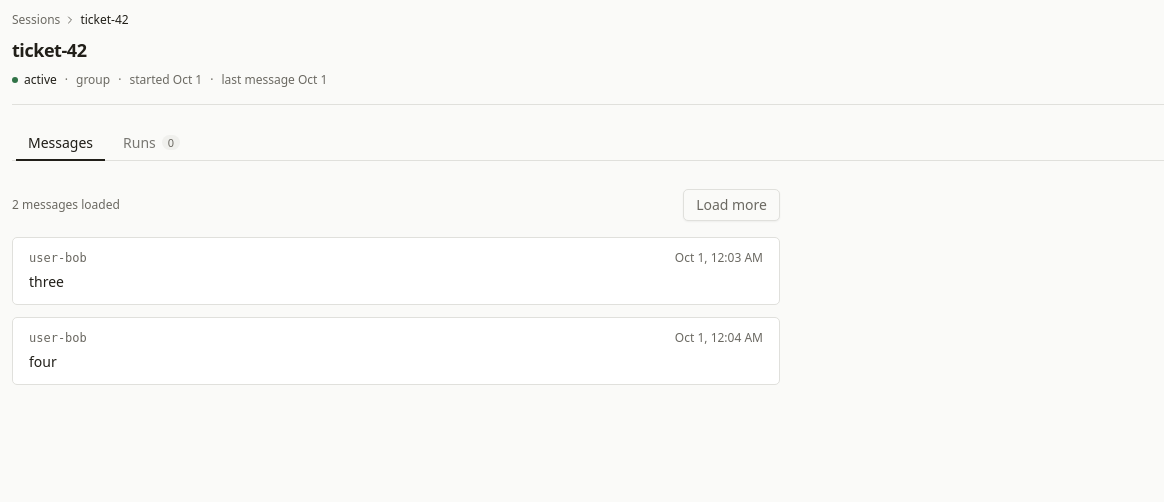
Test: the messages › loads earlier messages with the cursor and keeps chat order
The image size is (1164, 502).
Expected: the heading "ticket-42" is shown, top-left (12, 38), bottom-right (86, 62)
Expected: the text "four" is shown, top-left (29, 352), bottom-right (57, 371)
Step 1. Click the button "Load more" → (732, 205), box top-left (683, 189), bottom-right (780, 221)
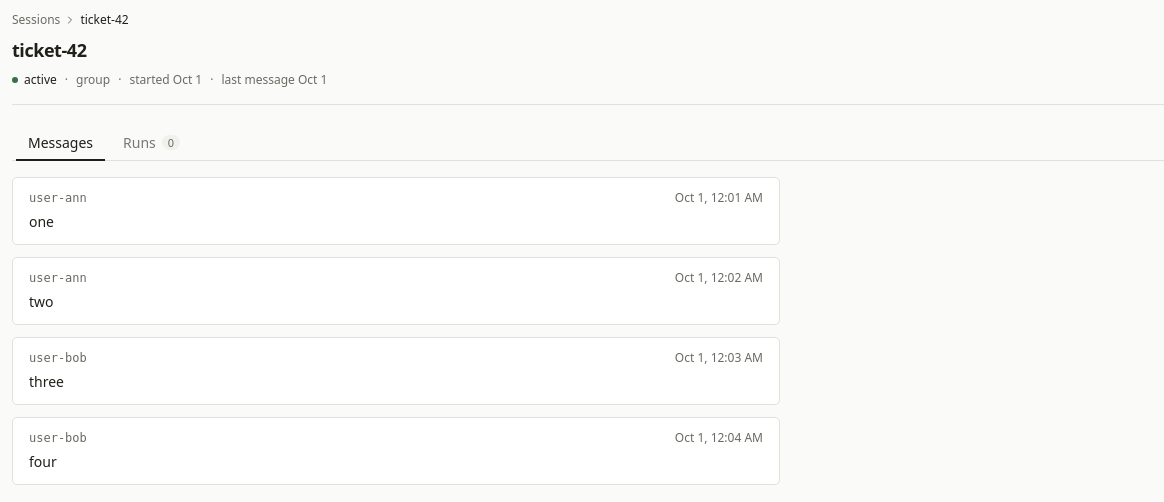
Now the text "one" is shown, box top-left (29, 212), bottom-right (54, 231)
